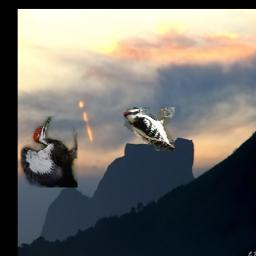Woodpecker: (21, 116, 77, 188), (124, 107, 175, 151)
